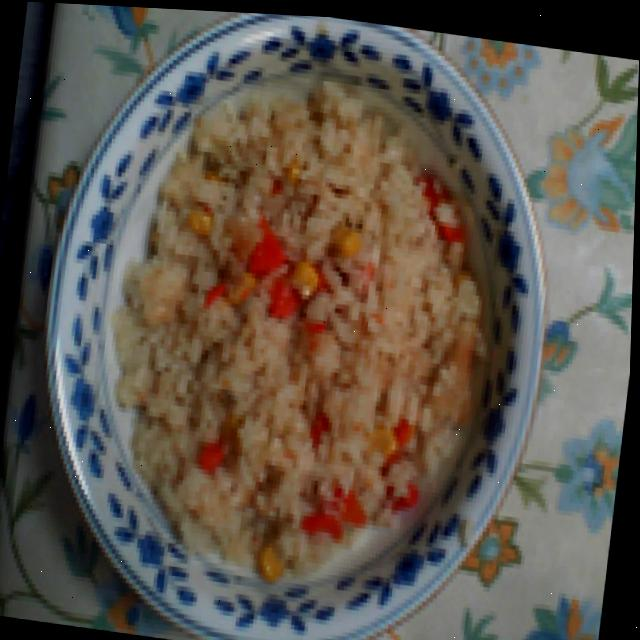米饭主食: (6, 1, 587, 640)
